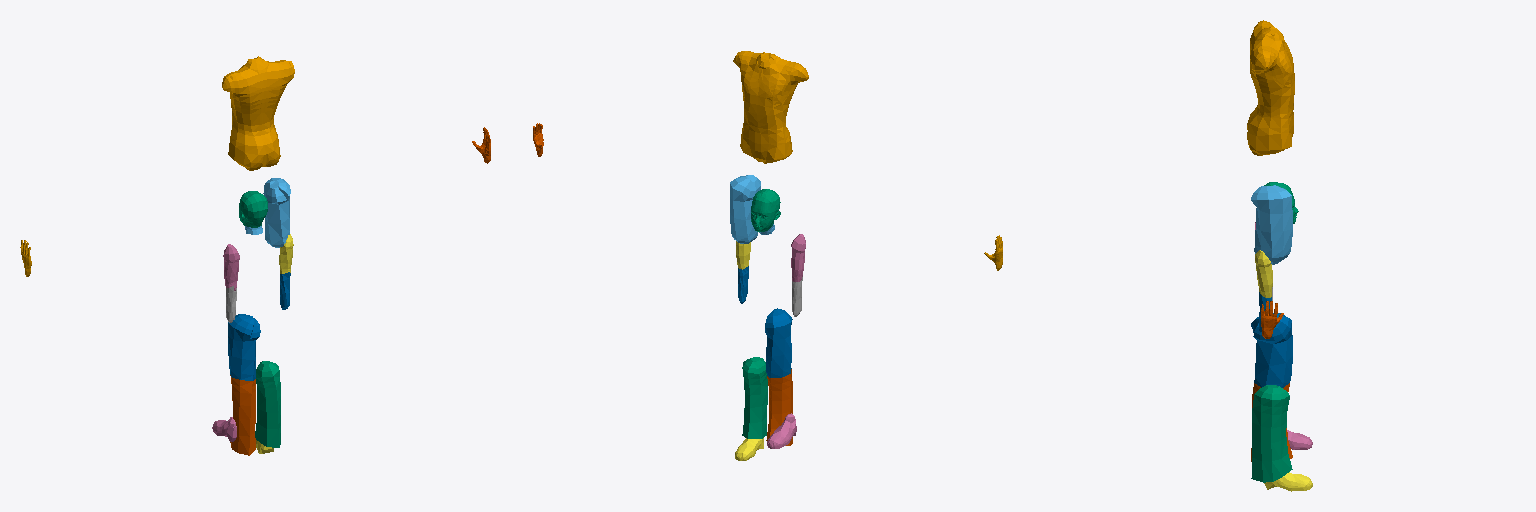
URDF robot description (Human):
<?xml version="1.0"?>
<robot name="Human">
  <!-- <^^^^^^^^^^^^> -->
  <!-- <   Links    > -->
  <!-- <vvvvvvvvvvvv> -->
  <link name="Body" >
    <visual>
      <geometry>
        <mesh filename="package://skeleton_description/model/male/Body.dae"/>
      </geometry>
      <origin xyz="0 0 0.0" rpy="0 0 0" />
      <!--<origin xyz="0 0 1.1" rpy="0 0 0" />-->
    </visual>
  </link>

  <link name="Neck" >
    <visual>
      <geometry>
        <mesh filename="package://skeleton_description/model/male/Neck.dae"/>
      </geometry>
      <origin xyz="0 0 0.0" rpy="0 0 0" />
    </visual>
  </link>

  <link name="Head" >
    <visual>
      <geometry>
        <mesh filename="package://skeleton_description/model/male/Head.dae"/>
      </geometry>
      <origin xyz="0 0 0.0" rpy="0 0 0" />
    </visual>
  </link>

  <link name="RightArm1" >
    <visual>
      <geometry>
        <mesh filename="package://skeleton_description/model/male/RightArm1.dae"/>
      </geometry>
      <origin xyz="0 0 0.0" rpy="0 0 0" />
    </visual>
  </link>

  <link name="RightArm2" >
    <visual>
      <geometry>
        <mesh filename="package://skeleton_description/model/male/RightArm2.dae"/>
      </geometry>
      <origin xyz="0 0 0.0" rpy="0 0 0" />
    </visual>
  </link>

  <link name="RightHand1" >
    <visual>
      <geometry>
        <mesh filename="package://skeleton_description/model/male/RightHand1.dae"/>
      </geometry>
      <origin xyz="0 0 0.0" rpy="0 0 0" />
    </visual>
  </link>

  <link name="LeftArm1" >
    <visual>
      <geometry>
        <mesh filename="package://skeleton_description/model/male/LeftArm1.dae"/>
      </geometry>
      <origin xyz="0 0 0.0" rpy="0 0 0" />
    </visual>
  </link>

  <link name="LeftArm2" >
    <visual>
      <geometry>
        <mesh filename="package://skeleton_description/model/male/LeftArm2.dae"/>
      </geometry>
      <origin xyz="0 0 0.0" rpy="0 0 0" />
    </visual>
  </link>

  <link name="LeftHand1" >
    <visual>
      <geometry>
        <mesh filename="package://skeleton_description/model/male/LeftHand1.dae"/>
      </geometry>
      <origin xyz="0 0 0.0" rpy="0 0 0" />
    </visual>
  </link>

  <link name="RightLeg1" >
    <visual>
      <geometry>
        <mesh filename="package://skeleton_description/model/male/RightLeg1.dae"/>
      </geometry>
      <origin xyz="0 0 0.0" rpy="0 0 0" />
    </visual>
  </link>

  <link name="RightLeg2" >
    <visual>
      <geometry>
        <mesh filename="package://skeleton_description/model/male/RightLeg2.dae"/>
      </geometry>
      <origin xyz="0 0 0.0" rpy="0 0 0" />
    </visual>
  </link>

  <link name="RightFoot" >
    <visual>
      <geometry>
        <mesh filename="package://skeleton_description/model/male/RightFoot.dae"/>
      </geometry>
      <origin xyz="0 0 0.0" rpy="0 0 0" />
    </visual>
  </link>

  <link name="LeftLeg1" >
    <visual>
      <geometry>
        <mesh filename="package://skeleton_description/model/male/LeftLeg1.dae"/>
      </geometry>
      <origin xyz="0 0 0.0" rpy="0 0 0" />
    </visual>
  </link>

  <link name="LeftLeg2" >
    <visual>
      <geometry>
        <mesh filename="package://skeleton_description/model/male/LeftLeg2.dae"/>
      </geometry>
      <origin xyz="0 0 0.0" rpy="0 0 0" />
    </visual>
  </link>

  <link name="LeftFoot" >
    <visual>
      <geometry>
        <mesh filename="package://skeleton_description/model/male/LeftFoot.dae"/>
      </geometry>
      <origin xyz="0 0 0.0" rpy="0 0 0" />
    </visual>
  </link>


  <!-- <^^^^^^^^^^^^^^^^^^^^^^^^^^^^^^^^^^^^^^^^> -->
  <!-- <   Virtual Links for multi DoF joints   > -->
  <!-- <vvvvvvvvvvvvvvvvvvvvvvvvvvvvvvvvvvvvvvvv> -->
  <link name="RightShoulderVirtual1"/>
  <link name="RightShoulderVirtual2"/>
  <link name="RightElbowVirtual"/>
  <link name="LeftShoulderVirtual1"/>
  <link name="LeftShoulderVirtual2"/>
  <link name="LeftElbowVirtual"/>
  <link name="RightHipVirtual1"/>
  <link name="RightHipVirtual2"/>
  <link name="RightKneeVirtual"/>
  <link name="LeftHipVirtual1"/>
  <link name="LeftHipVirtual2"/>
  <link name="LeftKneeVirtual"/>
  <link name="RightWristVirtual"/>
  <link name="LeftWristVirtual"/>
  <link name="NeckVirtual"/>


  <!-- <^^^^^^^^^^^^> -->
  <!-- <   Joints   > -->
  <!-- <vvvvvvvvvvvvv -->
  <!--
  <joint name="WAIST_JOINT1" type="continuous">
    <parent link="Neck"/>
    <child link="Head"/>
    <origin xyz="0 0 0" rpy="0 0 0"/>
    <axis xyz="0 1 0"/>
  </joint>

  <joint name="WAIST_JOINT2" type="continuous">
    <parent link="Neck"/>
    <child link="Head"/>
    <origin xyz="0 0 0" rpy="0 0 0"/>
    <axis xyz="0 1 0"/>
  </joint>
  -->

  <!-- Right Shoulder -->
  <joint name="R_ARM_JOINT1" type="continuous">
    <axis xyz="-1.0 0.0 0.0"/>
    <origin xyz="0.185 0 0.29" rpy="0 0 0" />
    <parent link="Body"/>
    <child link="RightShoulderVirtual1"/>
  </joint>

  <joint name="R_ARM_JOINT2" type="continuous">
    <axis xyz="0.0 1.0 0.0"/>
    <origin xyz="0.0 0.0 0.0" rpy="0 1.57079632679 0" />
    <parent link="RightShoulderVirtual1"/>
    <child link="RightShoulderVirtual2"/>
  </joint>

  <joint name="R_ARM_JOINT3" type="continuous">
    <axis xyz="-1.0 0.0 0.0"/>
    <!--<origin xyz="0.0 0.0 0.0" rpy="-1.57079632679 0 0" />-->
    <parent link="RightShoulderVirtual2"/>
    <child link="RightArm1"/>
  </joint>

  <!-- Right Elbow -->
  <joint name="R_ARM_JOINT4" type="continuous">
    <axis xyz="0.0 0.0 -1.0"/>
    <origin xyz="0.215 0 0" rpy="0 0 0.0" />
    <parent link="RightArm1"/>
    <child link="RightElbowVirtual"/>
  </joint>

  <joint name="R_ARM_JOINT5" type="continuous">
    <parent link="RightElbowVirtual"/>
    <child link="RightArm2"/>
  </joint>

  <!-- Right Wrist -->
  <joint name="R_ARM_JOINT6" type="continuous">
    <origin xyz="0.22 0 0" rpy="0 0 0" />
    <parent link="RightArm2"/>
    <child link="RightWristVirtual"/>
  </joint>

  <joint name="R_ARM_JOINT7" type="continuous">
    <parent link="RightWristVirtual"/>
    <child link="RightHand1"/>
  </joint>

  <!--
  <joint name="R_ARM_JOINT8" type="continuous">
    <parent link="RightWristVirtual"/>
    <child link="RightHand1"/>
  </joint>
  -->

  <!-- Left Shoulder -->
  <joint name="L_ARM_JOINT1" type="continuous">
    <axis xyz="-1.0 0.0 0.0"/>
    <origin xyz="-0.185 0 0.29" rpy="0.0 0.0 0.0" />
    <parent link="Body"/>
    <child link="LeftShoulderVirtual1"/>
  </joint>

  <joint name="L_ARM_JOINT2" type="continuous">
    <axis xyz="0.0 1.0 0.0"/>
    <origin xyz="0.0 0.0 0.0" rpy="0 4.71238898038 0" />
    <parent link="LeftShoulderVirtual1"/>
    <child link="LeftShoulderVirtual2"/>
  </joint>

  <joint name="L_ARM_JOINT3" type="continuous">
    <axis xyz="1.0 0.0 0.0"/>
    <!--<origin xyz="0.0 0.0 0.0" rpy="-1.57079632679 0 0" />-->
    <parent link="LeftShoulderVirtual2"/>
    <child link="LeftArm1"/>
  </joint>

  <!-- Left Elbow -->
  <joint name="L_ARM_JOINT4" type="continuous">
    <axis xyz="0.0 0.0 1.0"/>
    <origin xyz="-0.215 0 0" rpy="0 0 0.0" />
    <parent link="LeftArm1"/>
    <child link="LeftElbowVirtual"/>
  </joint>

  <joint name="L_ARM_JOINT5" type="continuous">
    <parent link="LeftElbowVirtual"/>
    <child link="LeftArm2"/>
  </joint>

  <!-- Left Wrist -->
  <joint name="L_ARM_JOINT6" type="continuous">
    <origin xyz="-0.22 0 0" rpy="0 0 0" />
    <parent link="LeftArm2"/>
    <child link="LeftWristVirtual"/>
  </joint>

  <joint name="L_ARM_JOINT7" type="continuous">
    <parent link="LeftWristVirtual"/>
    <child link="LeftHand1"/>
  </joint>

  <!--
  <joint name="L_ARM_JOINT8" type="continuous">
    <parent link="LeftWristVirtual"/>
    <child link="LeftHand1"/>
  </joint>
  -->

  <!-- Neck -->
  <joint name="NECK_JOINT0" type="continuous">
    <origin xyz="0 0 0.35" rpy="0 0 0" />
    <parent link="Body"/>
    <child link="Neck"/>
  </joint>

  <joint name="NECK_JOINT1" type="continuous">
    <origin xyz="0 0.04 0.03" rpy="0 0 0" />
    <parent link="Neck"/>
    <child link="NeckVirtual"/>
  </joint>

  <joint name="NECK_JOINT2" type="continuous">
    <parent link="NeckVirtual"/>
    <child link="Head"/>
  </joint>

  <!-- Right Hip -->
  <joint name="R_LEG_JOINT1" type="continuous">
    <axis xyz="-1.0 0.0 0.0"/>
    <origin xyz="0.072 0 -0.25" rpy="0 0 0" />
    <parent link="Body"/>
    <child link="RightHipVirtual1"/>
  </joint>

  <joint name="R_LEG_JOINT2" type="continuous">
    <axis xyz="0.0 1.0 0.0"/>
    <parent link="RightHipVirtual1"/>
    <child link="RightHipVirtual2"/>
  </joint>

  <joint name="R_LEG_JOINT3" type="continuous">
    <axis xyz="0.0 0.0 1.0"/>
    <parent link="RightHipVirtual2"/>
    <child link="RightLeg1"/>
  </joint>

  <!-- Right Knee -->
  <joint name="R_LEG_JOINT4" type="continuous">
    <axis xyz="-1.0 0.0 0.0"/>
    <origin xyz="0.0 0 -0.3" rpy="0 0 0" />
    <parent link="RightLeg1"/>
    <child link="RightKneeVirtual"/>
  </joint>

  <joint name="R_LEG_JOINT5" type="continuous">
    <parent link="RightKneeVirtual"/>
    <child link="RightLeg2"/>
  </joint>

  <!-- Right Ankle -->
  <joint name="R_LEG_JOINT6" type="continuous">
    <origin xyz="0.0 0 -0.42" rpy="0 0 0" />
    <parent link="RightLeg2"/>
    <child link="RightFoot"/>
  </joint>

  <!-- Left Hip -->
  <joint name="L_LEG_JOINT1" type="continuous">
    <axis xyz="-1.0 0.0 0.0"/>
    <origin xyz="-0.072 0 -0.25" rpy="0 0 0" />
    <parent link="Body"/>
    <child link="LeftHipVirtual1"/>
  </joint>

  <joint name="L_LEG_JOINT2" type="continuous">
    <axis xyz="0.0 1.0 0.0"/>
    <parent link="LeftHipVirtual1"/>
    <child link="LeftHipVirtual2"/>
  </joint>

  <joint name="L_LEG_JOINT3" type="continuous">
    <axis xyz="0.0 0.0 1.0"/>
    <parent link="LeftHipVirtual2"/>
    <child link="LeftLeg1"/>
  </joint>

  <!-- Left Knee -->
  <joint name="L_LEG_JOINT4" type="continuous">
    <axis xyz="-1.0 0.0 0.0"/>
    <origin xyz="0.0 0 -0.3" rpy="0 0 0" />
    <parent link="LeftLeg1"/>
    <child link="LeftKneeVirtual"/>
  </joint>

  <joint name="L_LEG_JOINT5" type="continuous">
    <parent link="LeftKneeVirtual"/>
    <child link="LeftLeg2"/>
  </joint>

  <!-- Left Ankle -->
  <joint name="L_LEG_JOINT6" type="continuous">
    <origin xyz="0.0 0 -0.42" rpy="0 0 0" />
    <parent link="LeftLeg2"/>
    <child link="LeftFoot"/>
  </joint>


</robot>

--- What the picture shows (computed from the rendered views, not written in the file) ---
The picture shows the robot from 3 angles, left to right: view 1: azimuth 30°, elevation 25°; view 2: azimuth 150°, elevation 25°; view 3: azimuth 270°, elevation 25°; orthographic projection.
Robot: Human — 30 links, 29 joints (29 continuous); root link Body; default pose: all joints at 0.
Links seen in each view (by area): view 1: Body, RightLeg2, LeftLeg1, LeftLeg2, RightLeg1, Head, LeftArm1; view 2: Body, RightLeg2, LeftLeg1, RightLeg1, LeftLeg2, Head, LeftFoot, LeftArm1; view 3: Body, RightLeg2, RightLeg1, LeftLeg1, RightArm1, RightFoot.
Boxes of the visible links, bbox=[...] form: Body: bbox=[222, 56, 294, 170]; RightLeg2: bbox=[255, 361, 280, 447]; LeftLeg1: bbox=[228, 314, 260, 380]; LeftLeg2: bbox=[230, 375, 255, 455]; RightLeg1: bbox=[263, 178, 290, 247]; Head: bbox=[239, 191, 267, 227]; LeftArm1: bbox=[223, 244, 239, 290]; Body: bbox=[733, 51, 808, 163]; RightLeg2: bbox=[742, 357, 767, 438]; LeftLeg1: bbox=[765, 308, 792, 377]; RightLeg1: bbox=[730, 175, 760, 243]; LeftLeg2: bbox=[766, 369, 792, 445]; Head: bbox=[751, 189, 780, 231]; LeftFoot: bbox=[767, 413, 796, 448]; LeftArm1: bbox=[791, 234, 805, 281]; Body: bbox=[1247, 20, 1294, 155]; RightLeg2: bbox=[1251, 385, 1292, 482]; RightLeg1: bbox=[1251, 185, 1292, 264]; LeftLeg1: bbox=[1251, 313, 1292, 387]; RightArm1: bbox=[1255, 250, 1272, 297]; RightFoot: bbox=[1264, 472, 1312, 491].
Bounding box of the posed robot: 3.2 × 0.3411 × 2.6 m (x, y, z).
15 mesh visuals loaded from 15 distinct referenced files (15 Collada DAE).